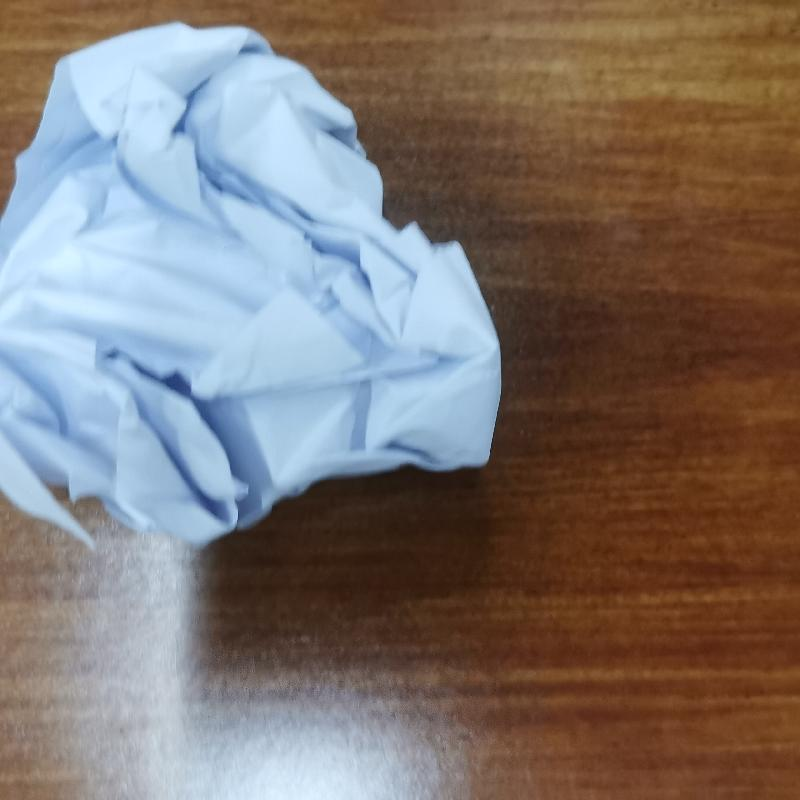spitball: (4, 20, 503, 554)
